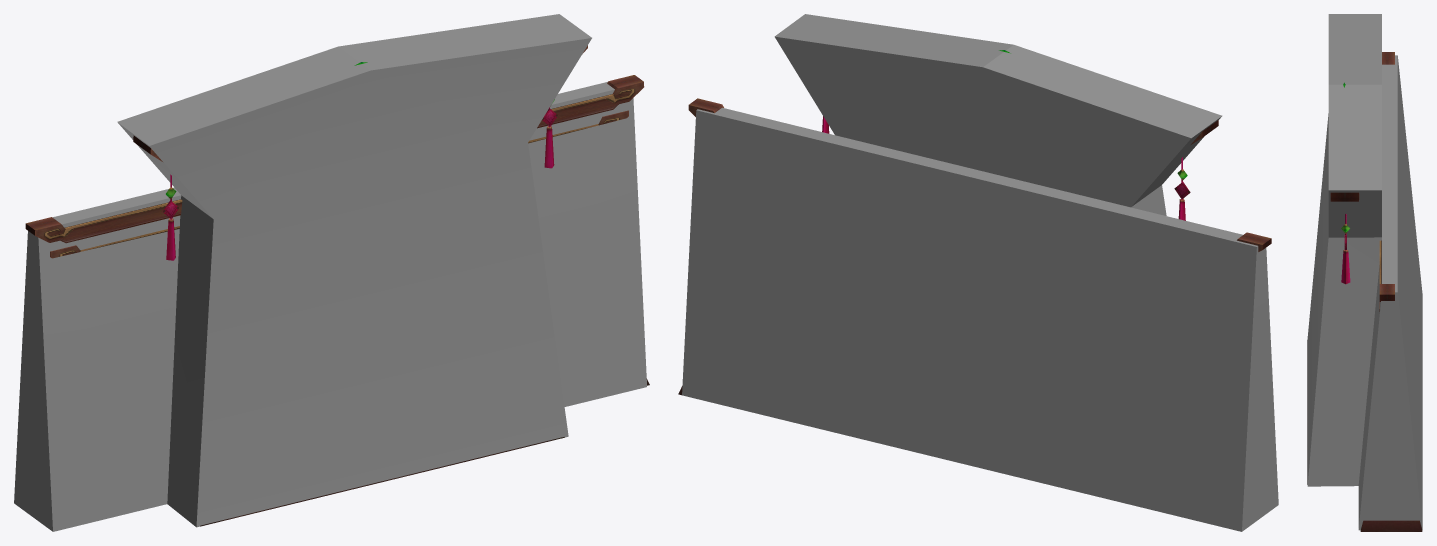
File: Scene_Build_HuanYinFang_LiYueTai_1.FBX
3 views of the same model, side by side, from view 1: azimuth 30°, elevation 25°; view 2: azimuth 150°, elevation 25°; view 3: azimuth 270°, elevation 25° (orthographic). The views are drawn at different scales.
Visible parts, largest first — view 1: Scene_Build_HuanYinFang_JianZhu_1_Xzm, Scene_Build_HuanYinFang_JianZhu_1_a; view 2: Scene_Build_HuanYinFang_JianZhu_1_Xzm, Scene_Build_HuanYinFang_JianZhu_1_a; view 3: Scene_Build_HuanYinFang_JianZhu_1_Xzm, Scene_Build_HuanYinFang_JianZhu_1_a.
Part boxes in pixels (box(x1,y1,x2,y2)): Scene_Build_HuanYinFang_JianZhu_1_Xzm: box(14, 14, 646, 531); Scene_Build_HuanYinFang_JianZhu_1_a: box(25, 45, 649, 526); Scene_Build_HuanYinFang_JianZhu_1_Xzm: box(682, 14, 1278, 531); Scene_Build_HuanYinFang_JianZhu_1_a: box(678, 98, 1271, 395); Scene_Build_HuanYinFang_JianZhu_1_Xzm: box(1307, 14, 1422, 530); Scene_Build_HuanYinFang_JianZhu_1_a: box(1307, 52, 1422, 531).
Bounding box in the file's own units: 2231 × 1412 × 447.
